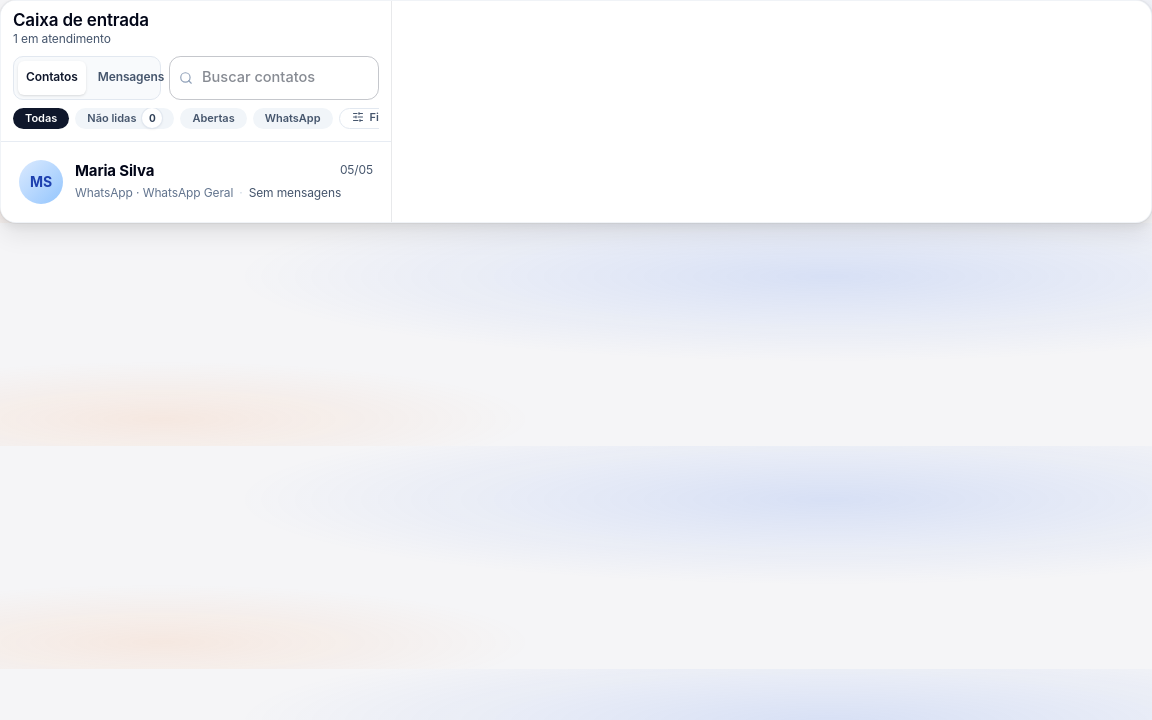
ConversationsPage new conversation › uses a compact mobile conversation header when a chat is selected
Click the text "Maria Silva": [115, 170] box [75,160,154,181]
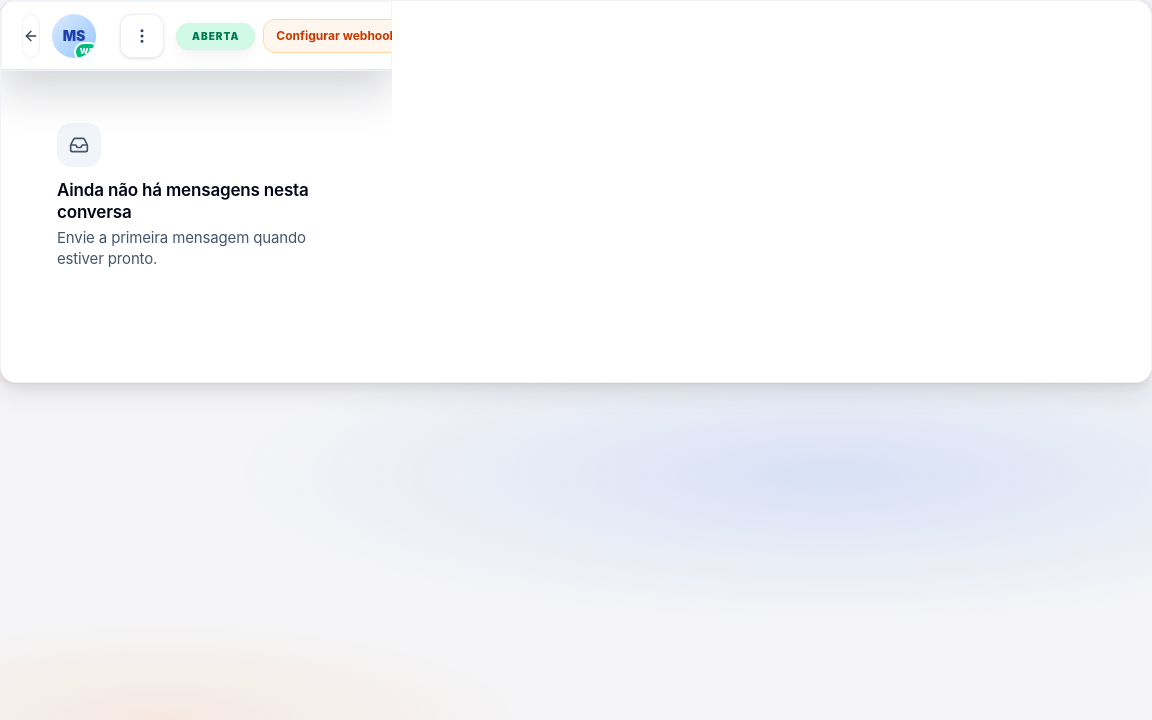
expect the button named "Voltar" is shown: met, box [22,14,40,58]
